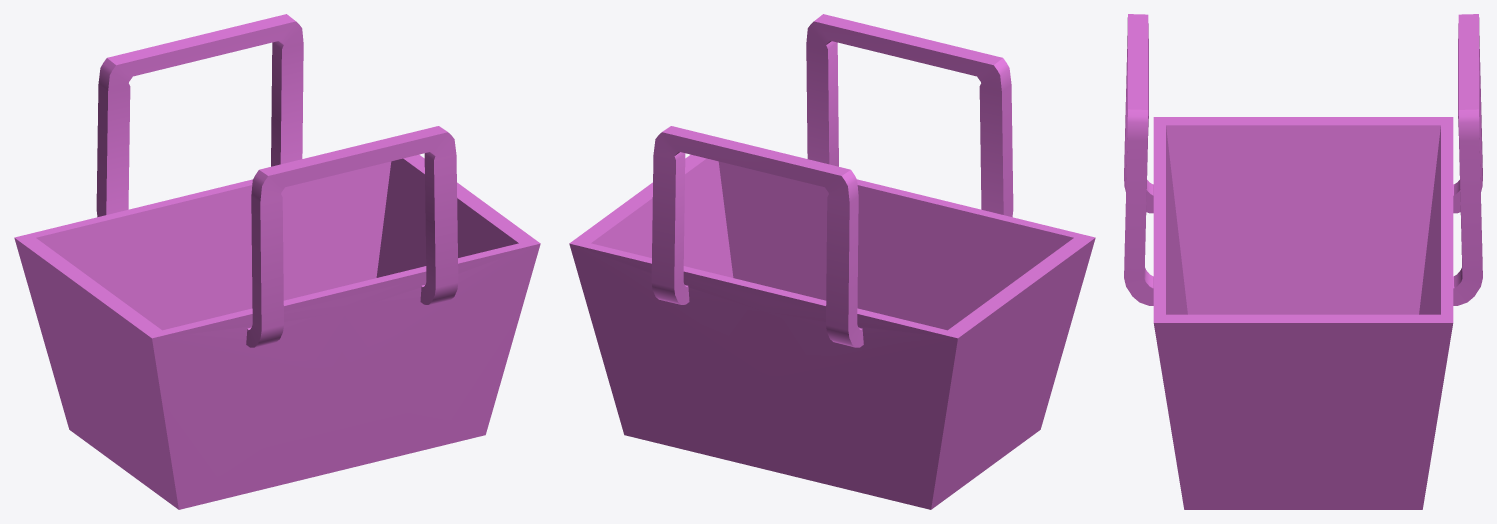
The model's file is keranjang.fbx.
3 renders of one model, left to right at view 1: azimuth 30°, elevation 25°; view 2: azimuth 150°, elevation 25°; view 3: azimuth 270°, elevation 25°, orthographic. The views are drawn at different scales.
Visible parts, largest first — view 1: Cube.001; view 2: Cube.001; view 3: Cube.001.
Part boxes in pixels (x1=…): Cube.001: x1=14, y1=14, x2=540, y2=509; Cube.001: x1=569, y1=14, x2=1095, y2=509; Cube.001: x1=1124, y1=14, x2=1482, y2=509.
Bounding box in the file's own units: 71.15 × 59.01 × 52.33.
